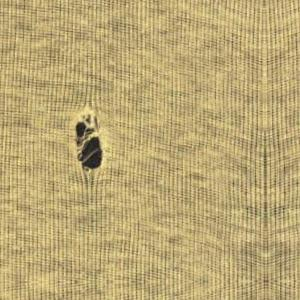hole: (67, 107, 111, 186)
